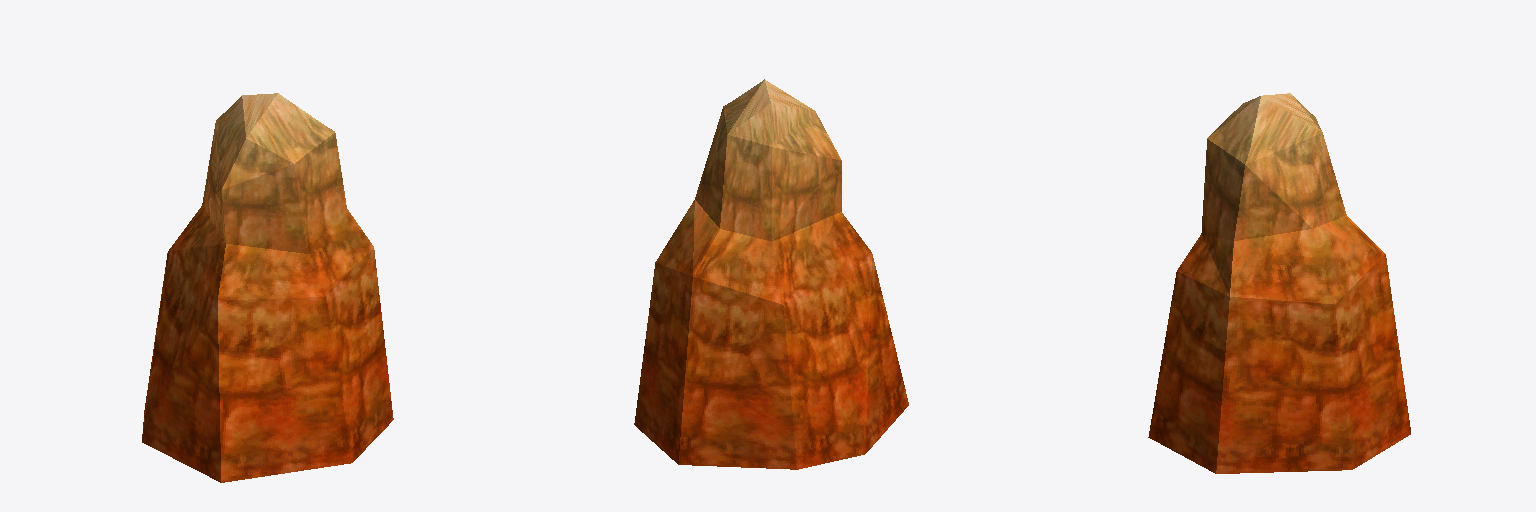
3 views of the same model, side by side, from view 1: azimuth 30°, elevation 25°; view 2: azimuth 150°, elevation 25°; view 3: azimuth 270°, elevation 25° (orthographic).
Visible parts, largest first — view 1: DurotarRock08; view 2: DurotarRock08; view 3: DurotarRock08.
Boxes of the visible parts, x1=… form: DurotarRock08: x1=142, y1=93, x2=393, y2=482; DurotarRock08: x1=634, y1=79, x2=908, y2=469; DurotarRock08: x1=1148, y1=93, x2=1410, y2=473.
Size of the model in its own units: 2.82 by 4.24 by 3.03.
1 materials, 1 textured.